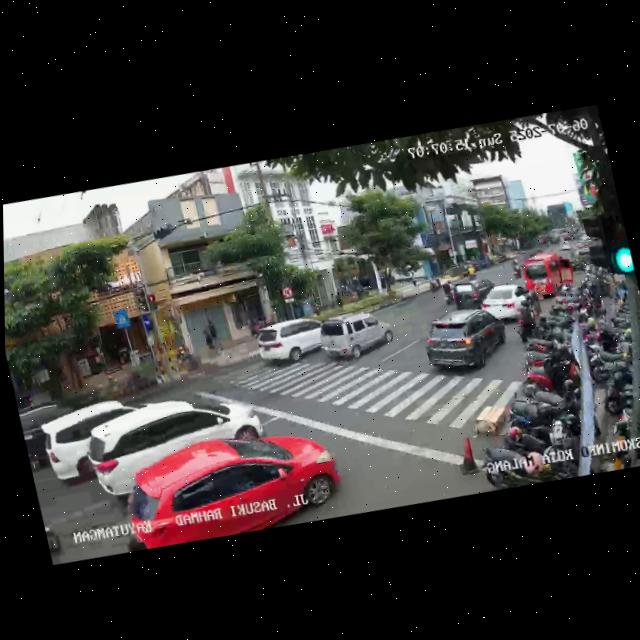car: (111, 413, 349, 560), (78, 377, 273, 512), (36, 390, 168, 493), (416, 301, 513, 382), (17, 397, 90, 480), (316, 302, 397, 370), (254, 311, 329, 372), (520, 245, 580, 302), (476, 276, 535, 327), (447, 271, 497, 313)
motorcycle: (439, 275, 458, 306), (509, 257, 523, 279)
